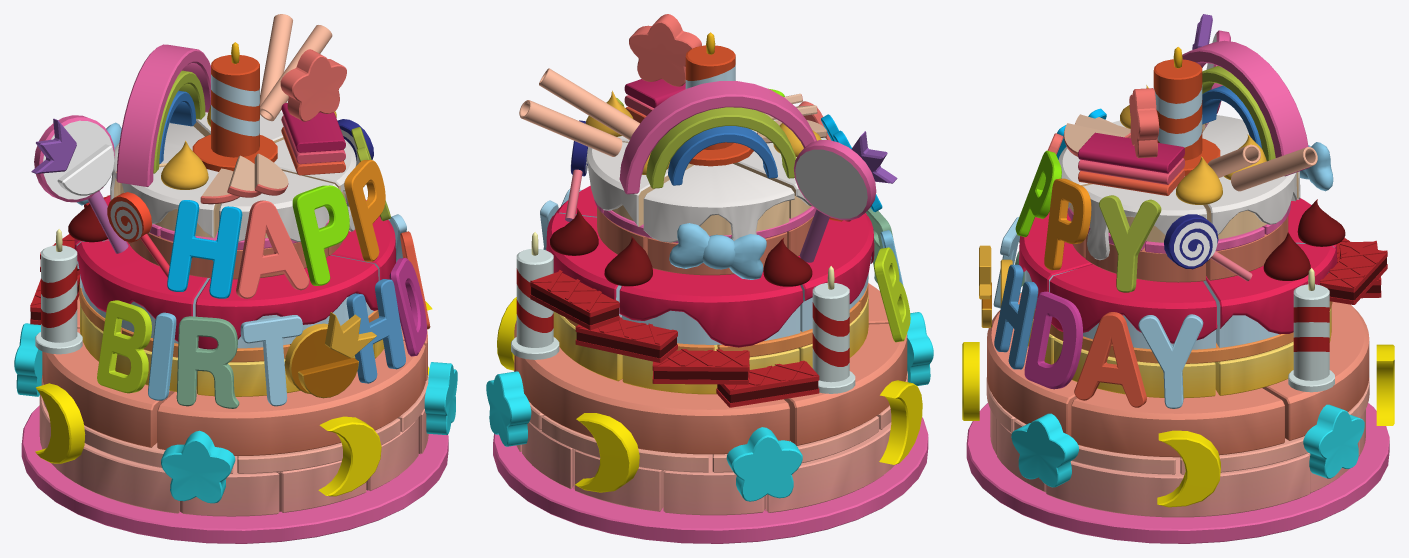
The model's file is lvl_9.fbx.
3 views of the same model, side by side, from view 1: azimuth 30°, elevation 25°; view 2: azimuth 150°, elevation 25°; view 3: azimuth 270°, elevation 25° (orthographic). The views are drawn at different scales.
Visible parts, largest first — view 1: Cake_59, Cake_56, Cake_46, Cake_24, Cake_41, Cake_11, Cake_5, Cake_63, Cake_19, Cake_18, Cake_42, Cake_13 (+54 smaller); view 2: Cake_59, Cake_62, Cake_29, Cake_35, Cake_11, Cake_41, Cake_8, Cake_5, Cake_24, Cake_9, Cake_40, Cake_4 (+44 smaller); view 3: Cake_59, Cake_103, Cake_106, Cake_88, Cake_85, Cake_62, Cake_41, Cake_63, Cake_56, Cake_101, Cake_107, Cake_75 (+47 smaller).
Part boxes in pixels (x1,y1,x2,y2): Cake_59: (21,405,448,543); Cake_56: (157,341,425,455); Cake_46: (195,255,378,349); Cake_24: (76,241,209,343); Cake_41: (116,44,210,186); Cake_11: (42,328,174,447); Cake_5: (39,394,179,513); Cake_63: (211,42,259,157); Cake_19: (167,200,242,298); Cake_18: (176,316,239,408); Cake_42: (236,200,309,298); Cake_13: (161,430,235,503); Cake_59: (493,417,928,543); Cake_62: (516,347,789,454); Cake_29: (619,268,803,347); Cake_35: (643,163,794,242); Cake_11: (784,324,907,445); Cake_41: (619,81,816,194); Cake_8: (794,140,876,262); Cake_5: (767,422,894,512); Cake_24: (798,213,874,331); Cake_9: (726,427,802,501); Cake_40: (646,107,796,188); Cake_4: (812,266,849,382); Cake_59: (966,403,1389,543); Cake_103: (1071,388,1284,457); Cake_106: (1046,454,1309,517); Cake_88: (1049,264,1217,349); Cake_85: (1203,243,1336,347); Cake_62: (1262,302,1369,440); Cake_41: (1182,40,1309,176); Cake_63: (1153,47,1202,160); Cake_56: (987,292,1077,436); Cake_101: (1024,291,1082,389); Cake_107: (1074,312,1146,407); Cake_75: (1203,172,1296,239).
Bounding box in the file's own units: 13.11 × 13.58 × 13.02.
